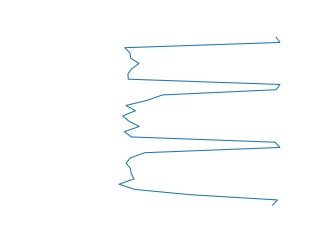majorRiverChannelBar: (117, 38, 288, 208)
